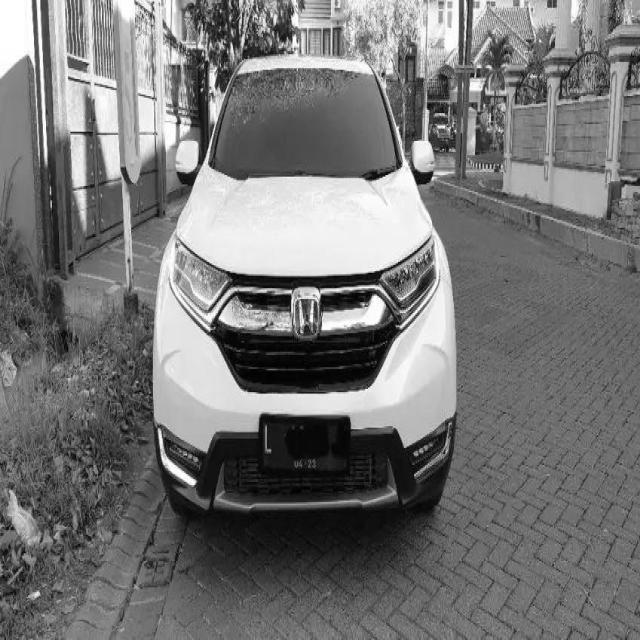clone-license-plate: (262, 417, 348, 481)
